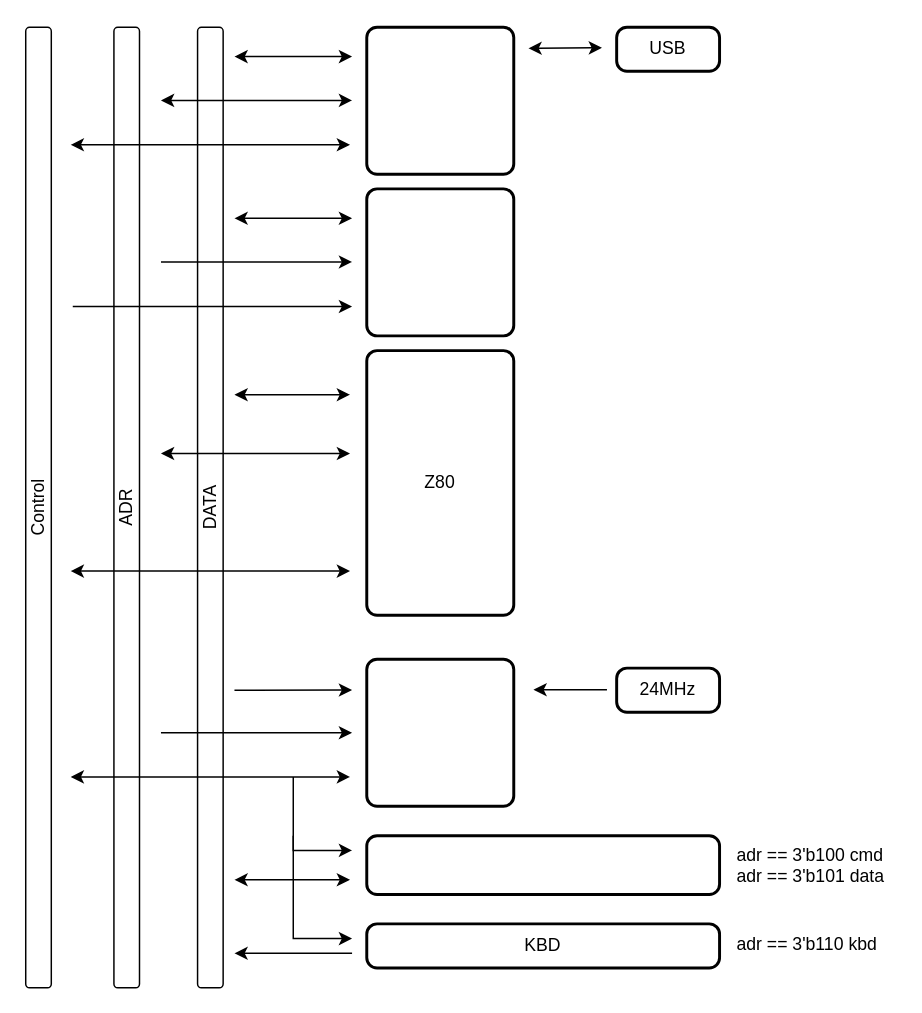
The diagram is 922 pixels wide and 1013 high, and some of its shapes have lost their labels. Here are the shapes that lost their labels. From the top down, the centre of each, then its label:
At [439,100]: "STM32F103".
At [439,262]: "BBSRAM".
At [439,732]: "CPLD".
At [542,864]: "LCD1602".
